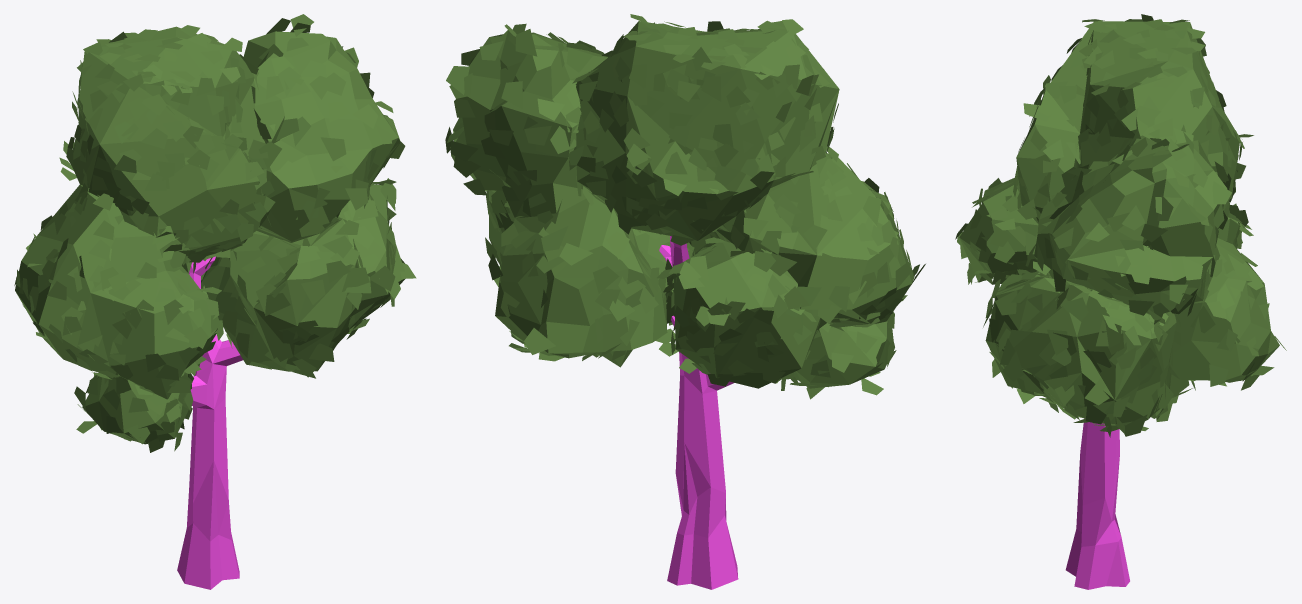
Rendered from SM_Tree_Cherry_Mature.fbx.
3 renders of one model, left to right at view 1: azimuth 30°, elevation 25°; view 2: azimuth 150°, elevation 25°; view 3: azimuth 270°, elevation 25°, orthographic. The views are drawn at different scales.
Parts seen in each view (by area): view 1: SM_Tree_Cherry_Mature; view 2: SM_Tree_Cherry_Mature; view 3: SM_Tree_Cherry_Mature.
Part boxes in pixels (bbox=[...]): SM_Tree_Cherry_Mature: bbox=[14, 14, 416, 589]; SM_Tree_Cherry_Mature: bbox=[445, 14, 925, 589]; SM_Tree_Cherry_Mature: bbox=[955, 14, 1286, 589].
Bounding box in the file's own units: 4.74 × 6.16 × 3.53.
